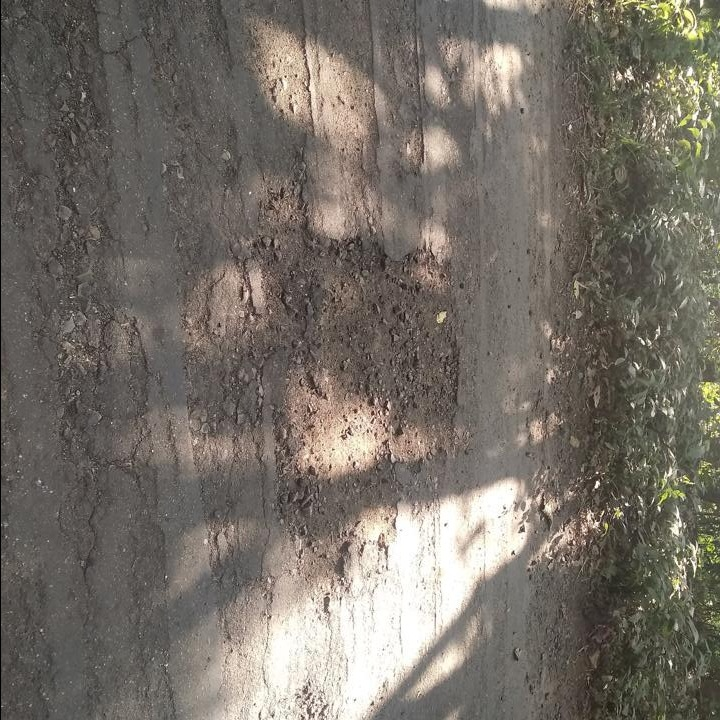pothole: (239, 213, 464, 596)
